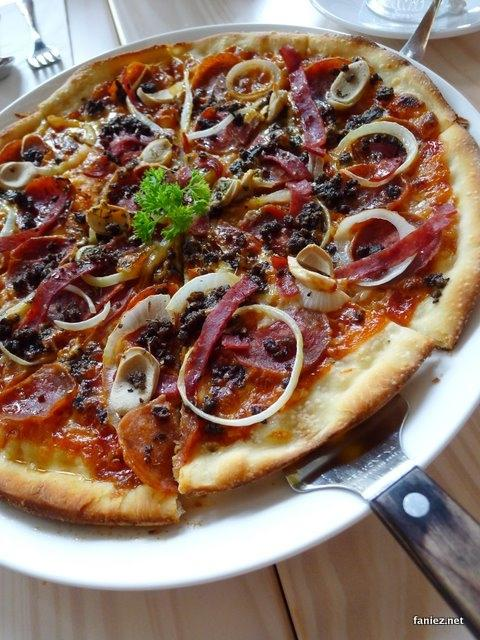onion: (176, 304, 304, 426), (102, 294, 172, 433), (334, 208, 417, 286), (328, 120, 418, 188), (36, 114, 98, 176), (188, 97, 266, 139), (165, 272, 232, 314), (74, 245, 139, 288), (225, 59, 282, 101), (126, 95, 175, 139), (286, 256, 338, 294), (296, 278, 350, 312), (52, 300, 110, 331), (296, 243, 333, 277), (135, 138, 172, 166), (244, 188, 291, 210), (1, 342, 41, 366), (180, 71, 194, 134), (0, 208, 15, 236), (215, 128, 225, 142)
